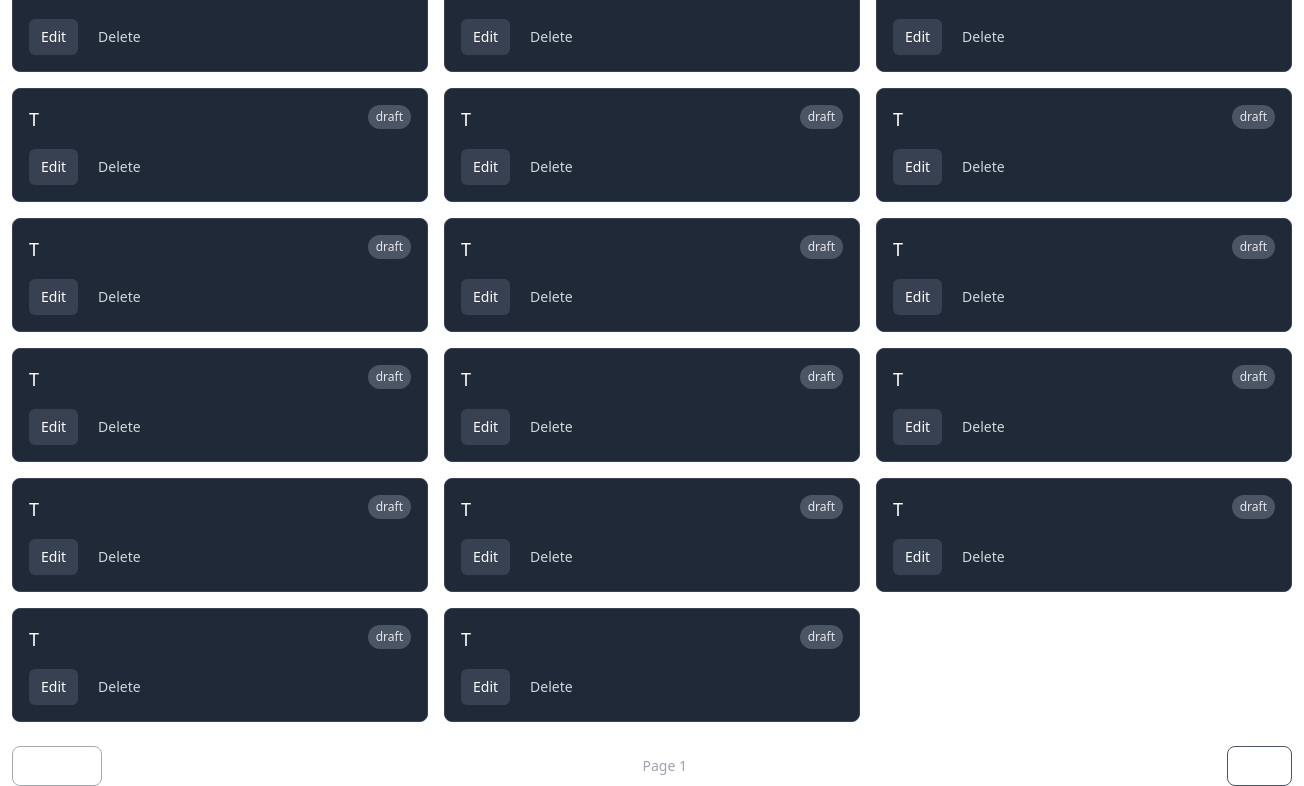
it: ItemsPage › pagination › advances to next page when Next is clicked
(page scrolled)
Click the button "Next": x=1260, y=766 [1227,746,1292,785]
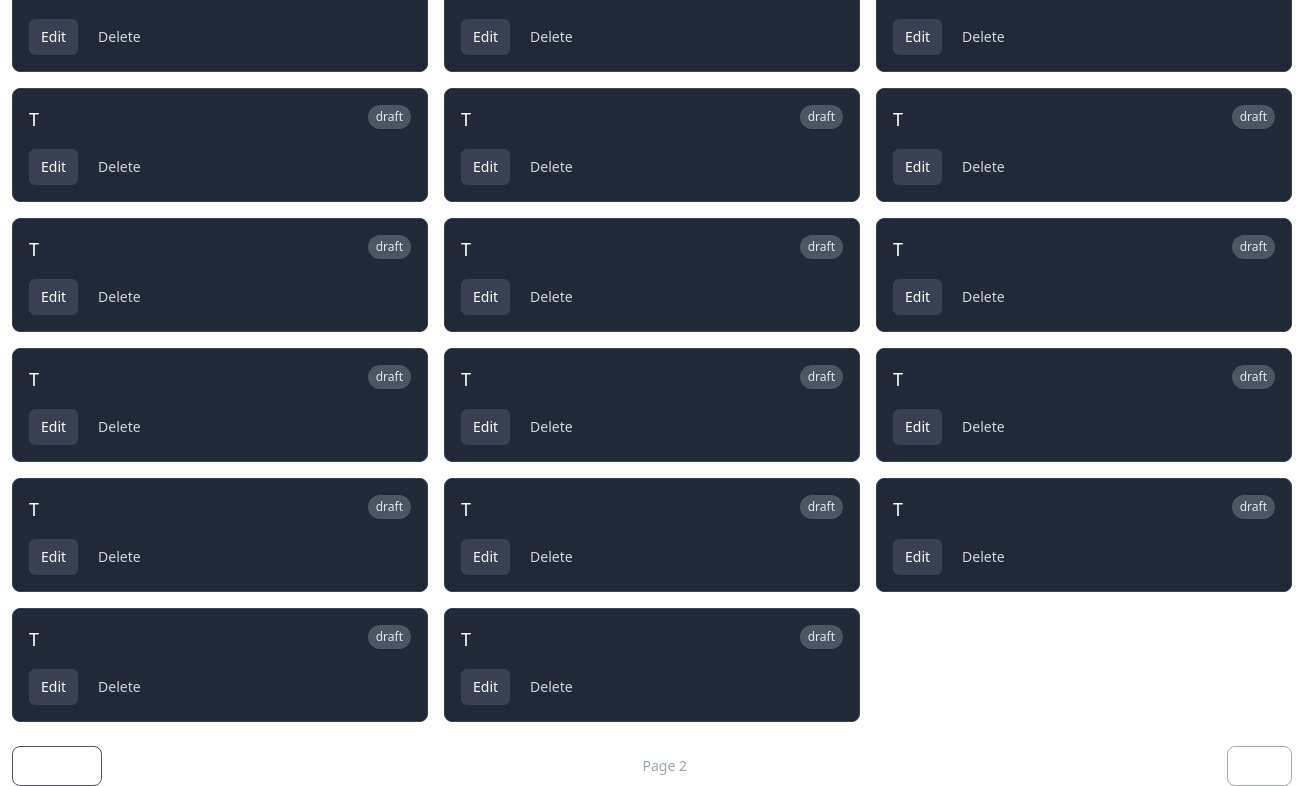
expect the text "Page 2" is shown: met, box [642,756,687,776]
